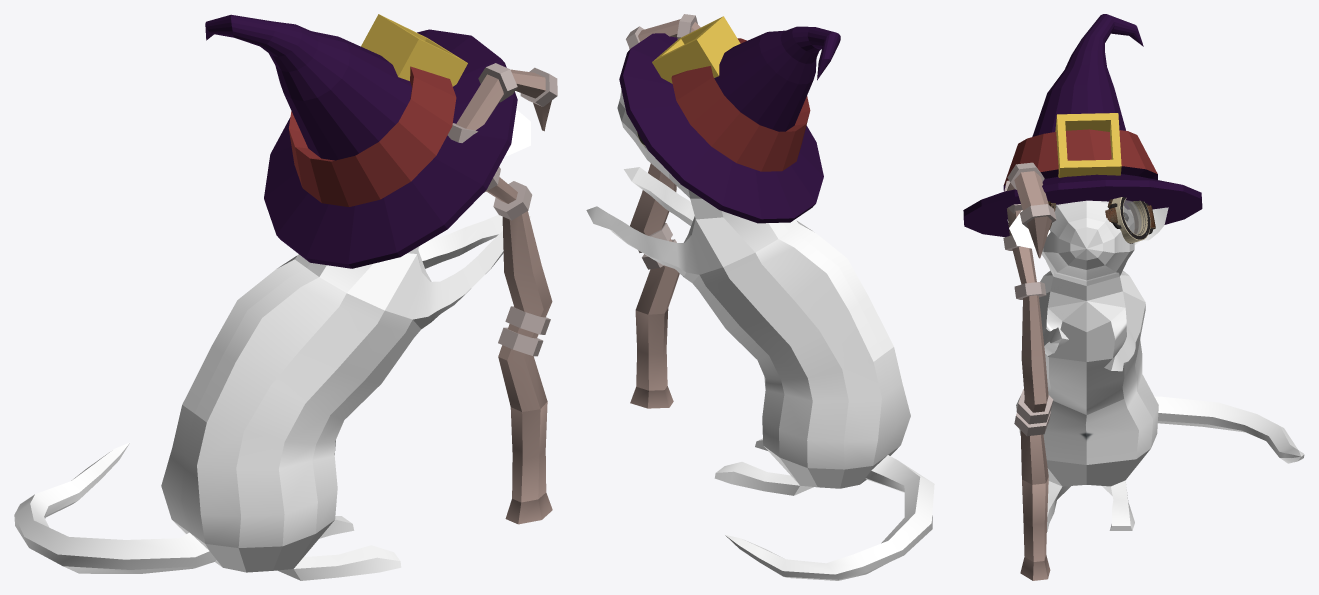
File: ratatin_causa.glb
3 renders of one model, left to right at view 1: azimuth 30°, elevation 25°; view 2: azimuth 150°, elevation 25°; view 3: azimuth 270°, elevation 25°, orthographic. The views are drawn at different scales.
Visible parts, largest first — view 1: Cone_2; view 2: Cone_2; view 3: Cone_2.
Boxes of the visible parts, box(x1,y1,x2,y2) form: Cone_2: box(14, 14, 557, 580); Cone_2: box(586, 14, 934, 580); Cone_2: box(963, 14, 1304, 580).
Size of the model in its own units: 5.81 by 7.08 by 4.64.
Materials: 14 (2 with a texture image).
